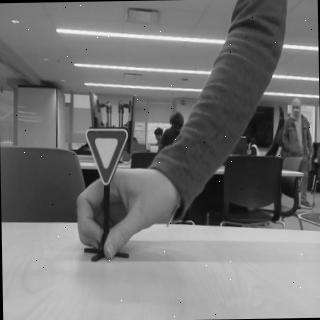sign_yield: (84, 127, 132, 190)
